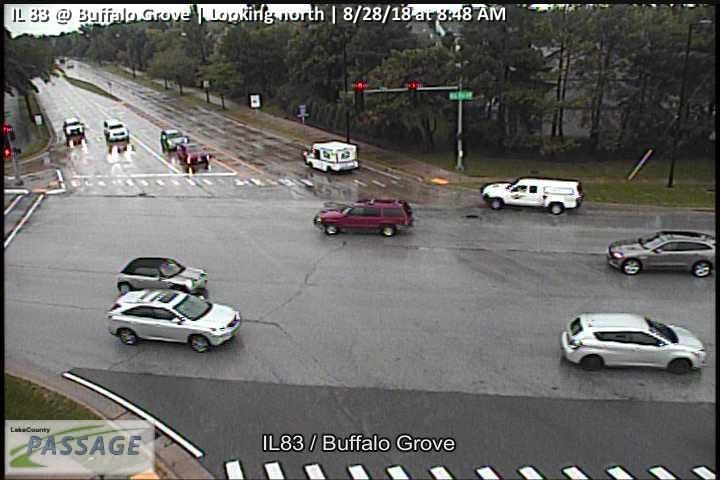SUV: (558, 313, 708, 375), (605, 231, 717, 279), (312, 196, 416, 236), (480, 177, 583, 216), (116, 259, 208, 295), (302, 139, 359, 175), (161, 130, 190, 153), (104, 118, 130, 143)
Sedan: (105, 289, 242, 354), (177, 144, 212, 167), (64, 117, 82, 136)
